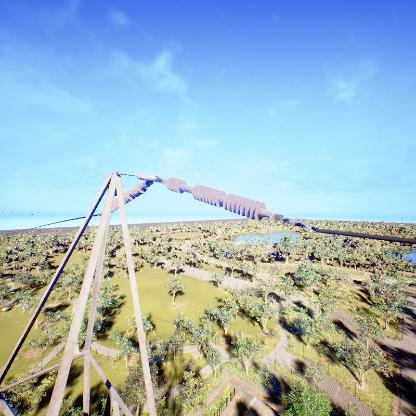insulator: (165, 176, 270, 218)
